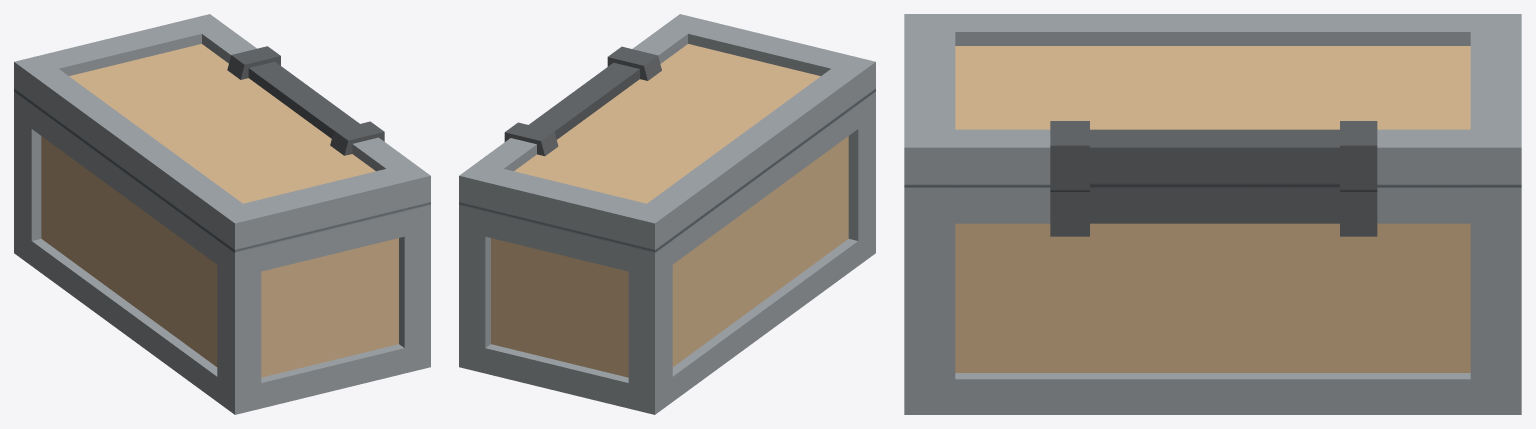
File: LargeAmmoBox.fbx
3 views of the same model, side by side, from view 1: azimuth 30°, elevation 25°; view 2: azimuth 150°, elevation 25°; view 3: azimuth 270°, elevation 25° (orthographic). The views are drawn at different scales.
Visible parts, largest first — view 1: Large_ammo_box; view 2: Large_ammo_box; view 3: Large_ammo_box.
Boxes of the visible parts, <box> form: Large_ammo_box: <box>14,14,430,414</box>; Large_ammo_box: <box>459,14,875,414</box>; Large_ammo_box: <box>904,14,1521,414</box>.
Size of the model in its own units: 4.33 by 4.01 by 8.22.
1 material, 1 textured.
